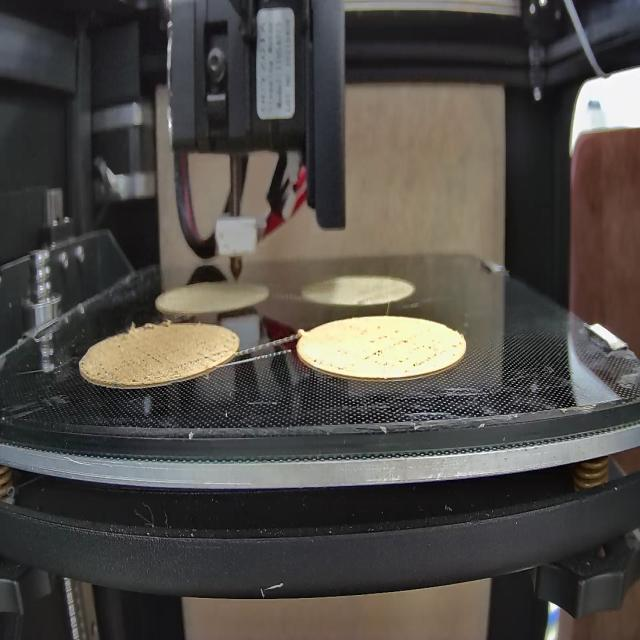under_extrusion: (82, 342, 235, 382), (358, 324, 460, 374), (313, 350, 346, 387)
